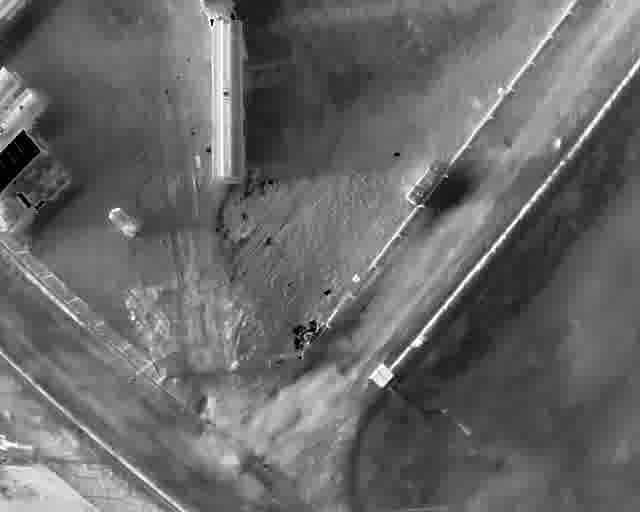truck: (198, 0, 248, 184), (0, 158, 75, 233), (0, 127, 50, 197), (0, 86, 51, 145)
